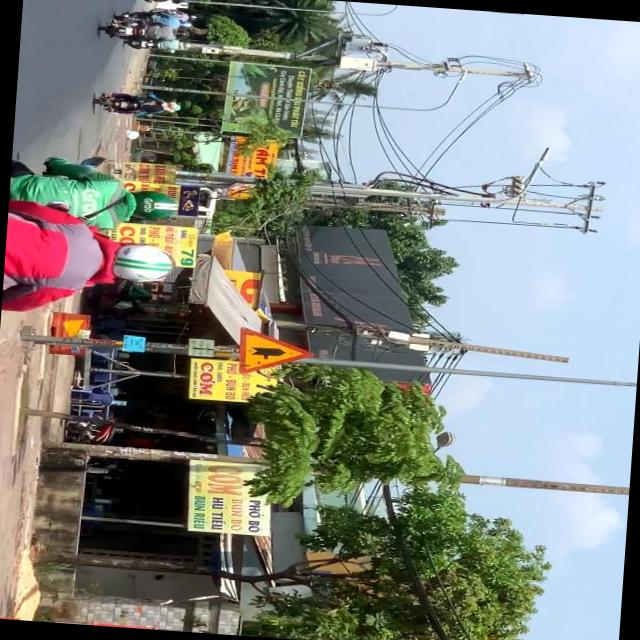W-207b: (237, 328, 316, 378)
